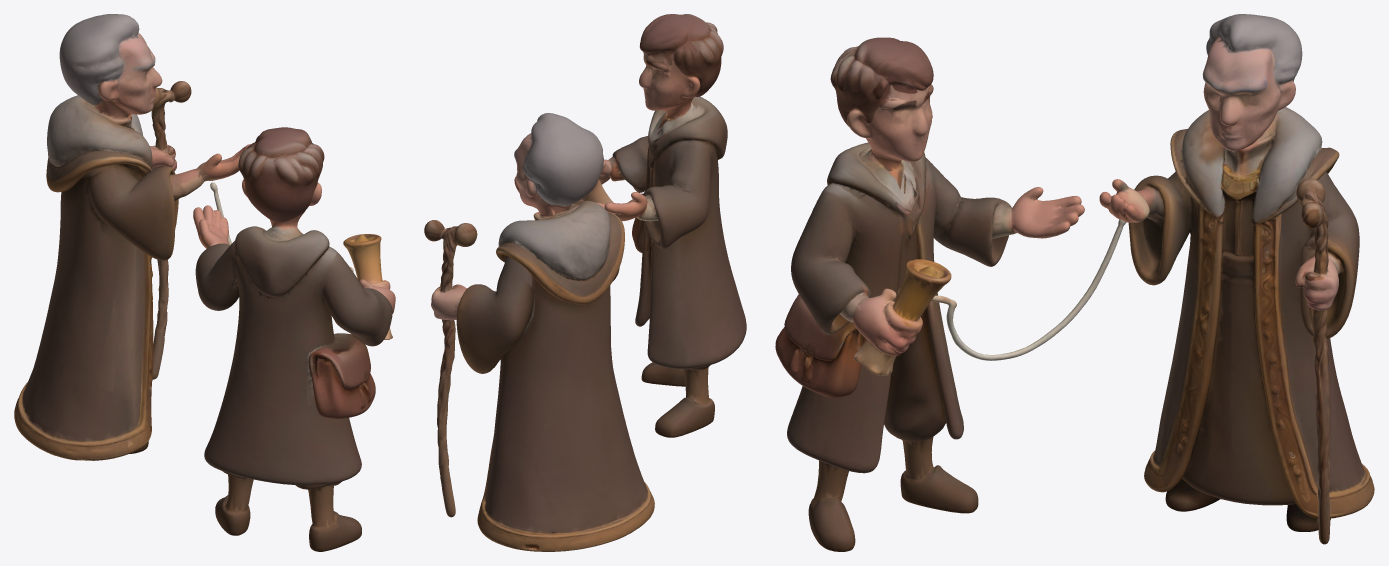
The model's file is pact_pair.glb.
3 views of the same model, side by side, from view 1: azimuth 30°, elevation 25°; view 2: azimuth 150°, elevation 25°; view 3: azimuth 270°, elevation 25° (orthographic). The views are drawn at different scales.
Visible parts, largest first — view 1: tripo_node_3f8e5eac-1357-4552-80fe-711cbf974578; view 2: tripo_node_3f8e5eac-1357-4552-80fe-711cbf974578; view 3: tripo_node_3f8e5eac-1357-4552-80fe-711cbf974578.
Boxes of the visible parts, x1,y1,x2,y2 form: tripo_node_3f8e5eac-1357-4552-80fe-711cbf974578: (14,14,395,551); tripo_node_3f8e5eac-1357-4552-80fe-711cbf974578: (424,14,746,551); tripo_node_3f8e5eac-1357-4552-80fe-711cbf974578: (775,14,1374,551).
Bounding box in the file's own units: 0.5041 × 0.9103 × 0.9998.
Materials: 1 (1 with a texture image).
